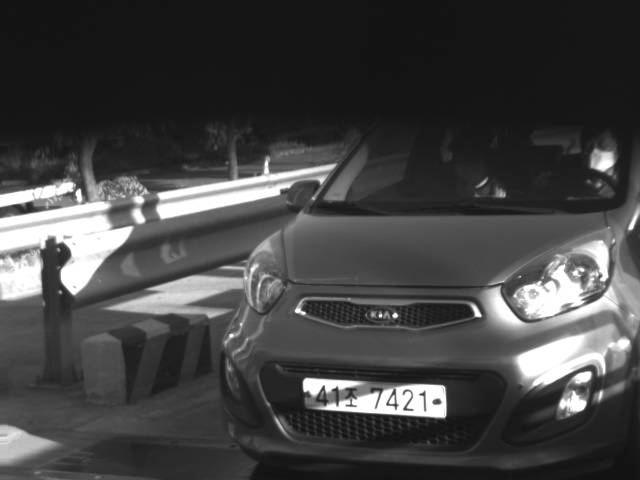car: (211, 109, 640, 480)
plate: (302, 376, 447, 420)
